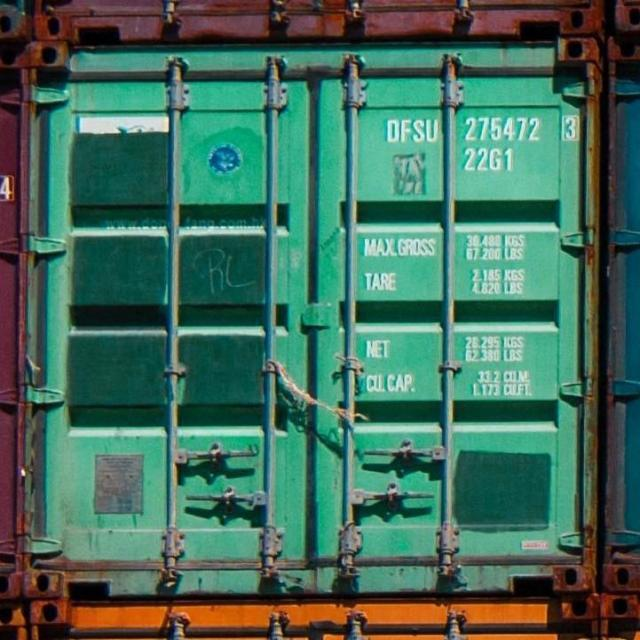ISO: (464, 146, 514, 174)
container_number: (384, 114, 572, 142)
